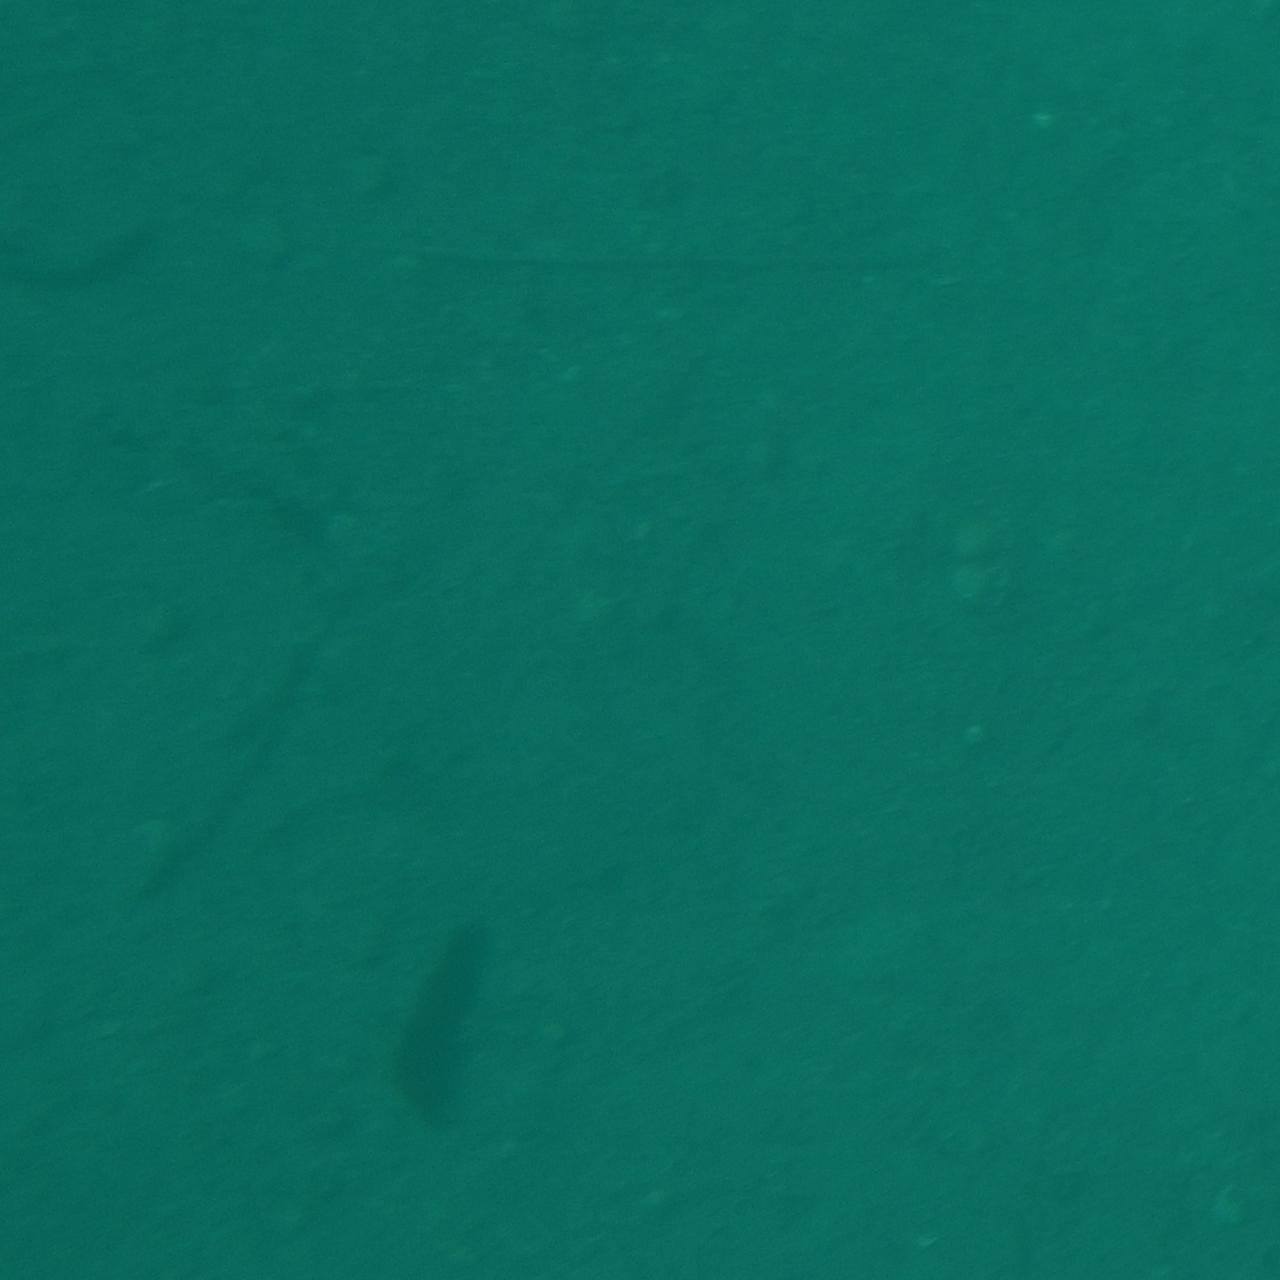Holothuria tubulosa: (380, 897, 517, 1160), (0, 188, 170, 316)
